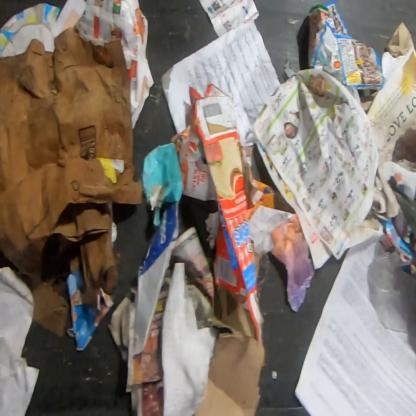cardboard: (0, 24, 144, 338), (188, 79, 274, 340), (192, 285, 266, 416), (66, 267, 114, 352)
soft_plastic: (366, 236, 415, 358)
